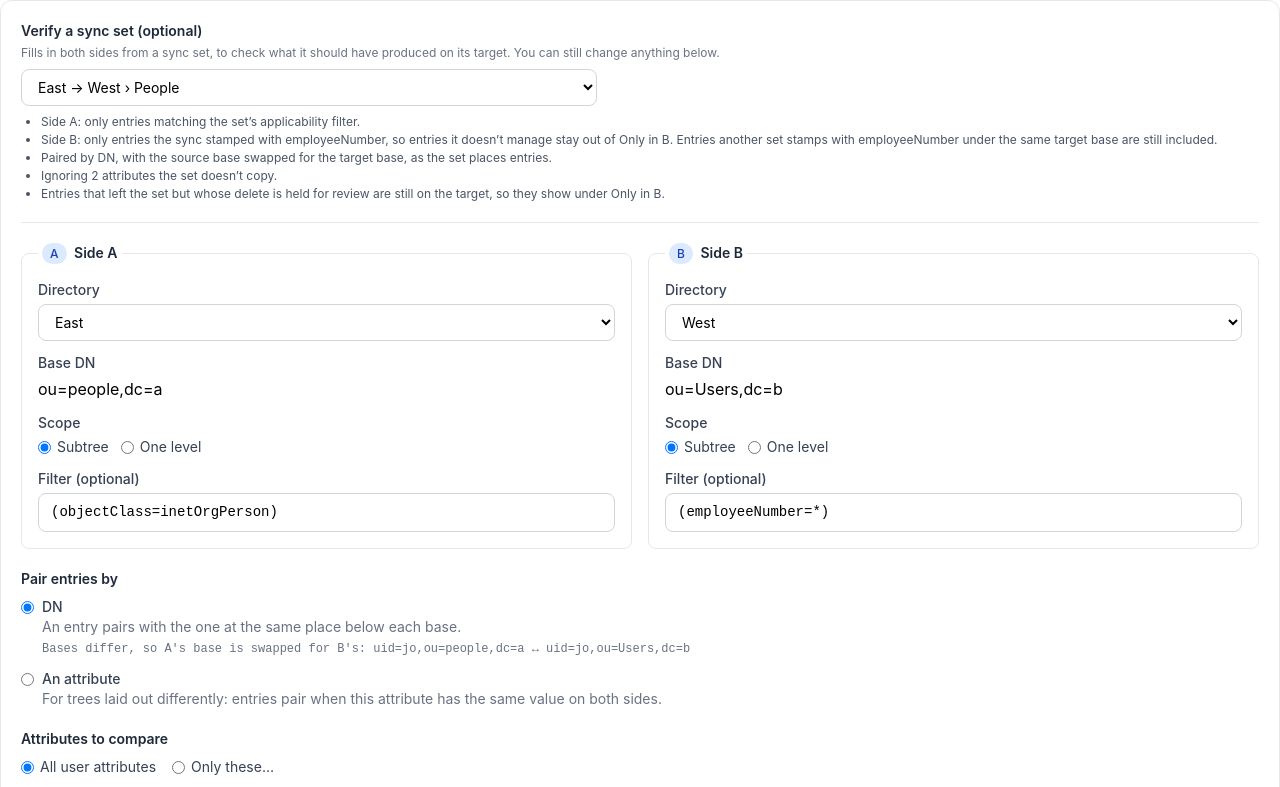
DirectoryDiffSetup › lets go of the sync set once a side is edited by hand
Expected: the list with test id "sync-set-notes" is shown, x1=21 y1=114 x2=1259 y2=202
Replace the text in the field with id "dd-b-filter" with "(objectClass=person)" at (954,513), box x1=665 y1=493 x2=1242 y2=532
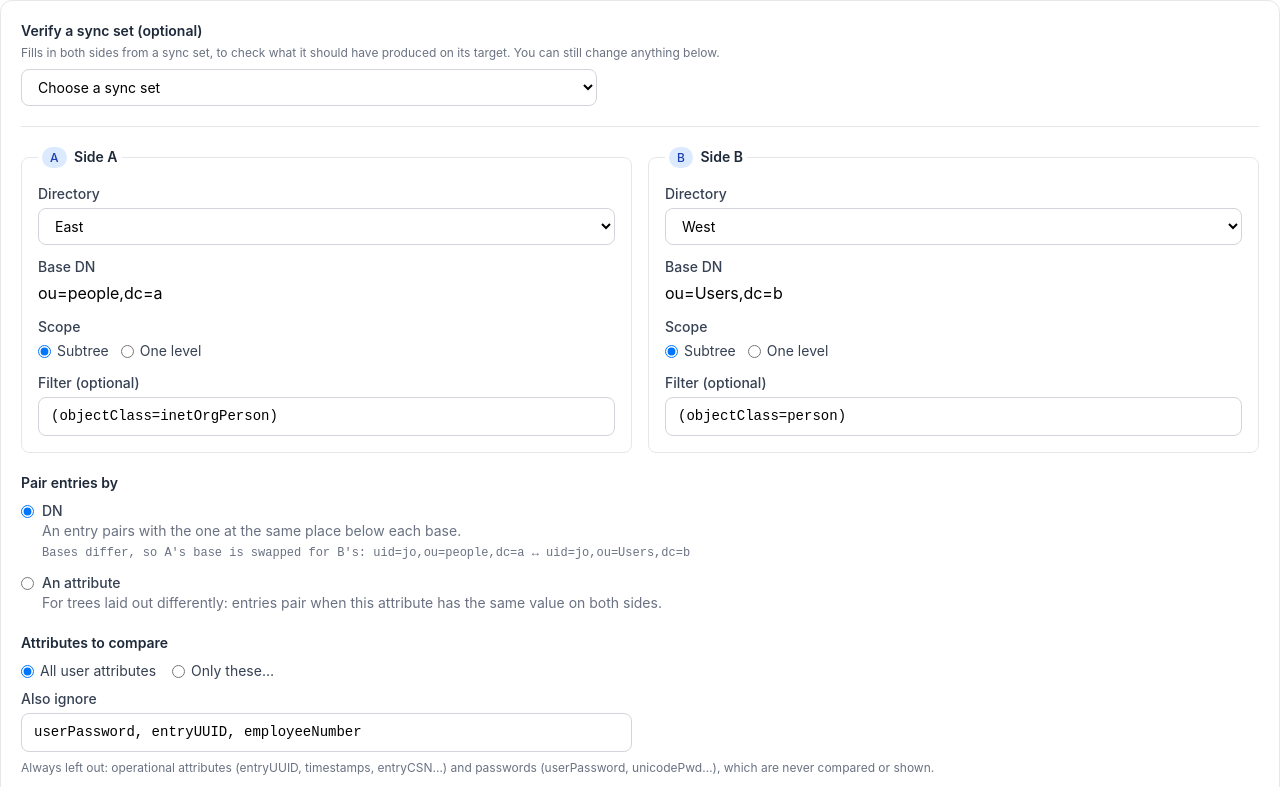
Expected: the dropdown with id "dd-sync-set" shows "Choose a sync set", x1=21 y1=69 x2=597 y2=106
